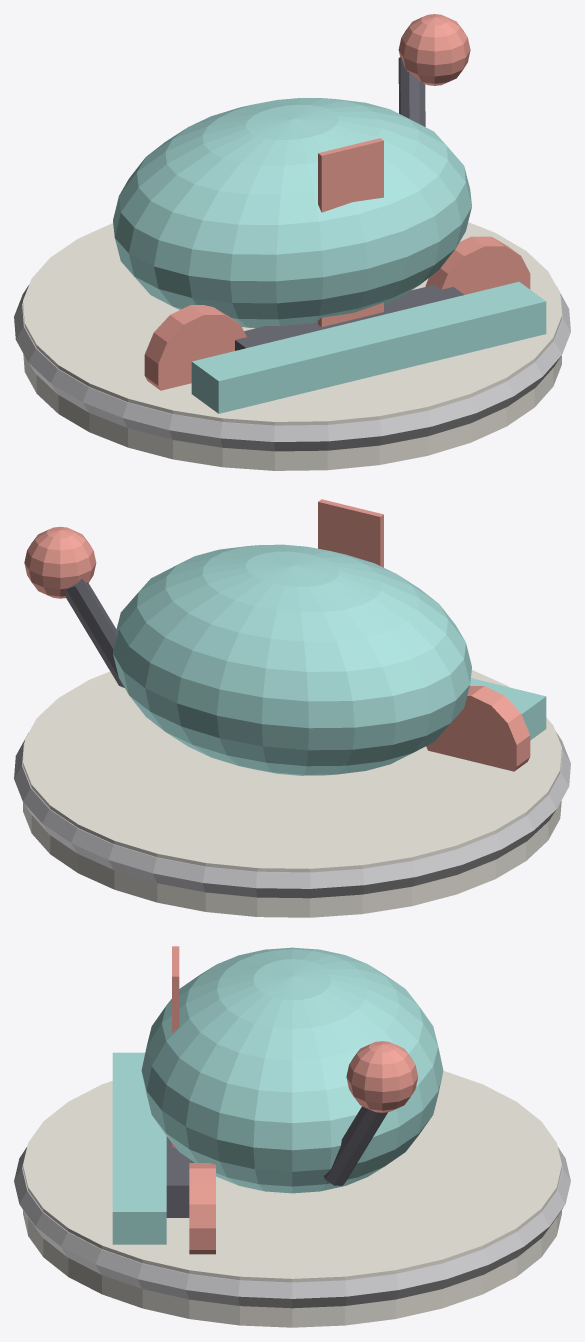
File: item_82_star_badge.glb
3 views of the same model, one above another, from view 1: azimuth 30°, elevation 25°; view 2: azimuth 150°, elevation 25°; view 3: azimuth 270°, elevation 25° (orthographic).
Visible parts, largest first — view 1: I82_Helmet, I82_Badge, I82_Brim, I82_Rim, I82_Ear0, I82_Stripe, I82_Ear1, I82_AntTip, I82_Visor, I82_Ant; view 2: I82_Badge, I82_Helmet, I82_Rim, I82_Ear0, I82_AntTip, I82_Stripe, I82_Ant, I82_Brim; view 3: I82_Badge, I82_Helmet, I82_Rim, I82_Brim, I82_AntTip, I82_Ear1, I82_Ant, I82_Visor, I82_Stripe.
Boxes of the visible parts, bbox=[...] form: I82_Helmet: bbox=[113, 98, 471, 328]; I82_Badge: bbox=[23, 222, 561, 470]; I82_Brim: bbox=[191, 282, 546, 413]; I82_Rim: bbox=[14, 285, 570, 451]; I82_Ear0: bbox=[144, 305, 246, 390]; I82_Stripe: bbox=[318, 138, 383, 326]; I82_Ear1: bbox=[425, 236, 530, 294]; I82_AntTip: bbox=[398, 14, 470, 85]; I82_Visor: bbox=[235, 284, 463, 350]; I82_Ant: bbox=[398, 57, 425, 126]; I82_Badge: bbox=[23, 670, 561, 917]; I82_Helmet: bbox=[113, 544, 471, 775]; I82_Rim: bbox=[14, 732, 570, 898]; I82_Ear0: bbox=[426, 686, 530, 771]; I82_AntTip: bbox=[24, 526, 96, 598]; I82_Stripe: bbox=[318, 499, 383, 567]; I82_Ant: bbox=[65, 579, 124, 687]; I82_Brim: bbox=[470, 678, 546, 740]; I82_Badge: bbox=[23, 1071, 561, 1327]; I82_Helmet: bbox=[141, 947, 443, 1193]; I82_Rim: bbox=[14, 1146, 570, 1308]; I82_Brim: bbox=[112, 1052, 166, 1244]; I82_AntTip: bbox=[346, 1041, 417, 1112]; I82_Ear1: bbox=[189, 1163, 215, 1254]; I82_Ant: bbox=[323, 1106, 387, 1185]; I82_Visor: bbox=[166, 1136, 194, 1217]; I82_Stripe: bbox=[172, 946, 179, 1147].
Bounding box in the file's own units: 0.062 × 0.032 × 0.062.
